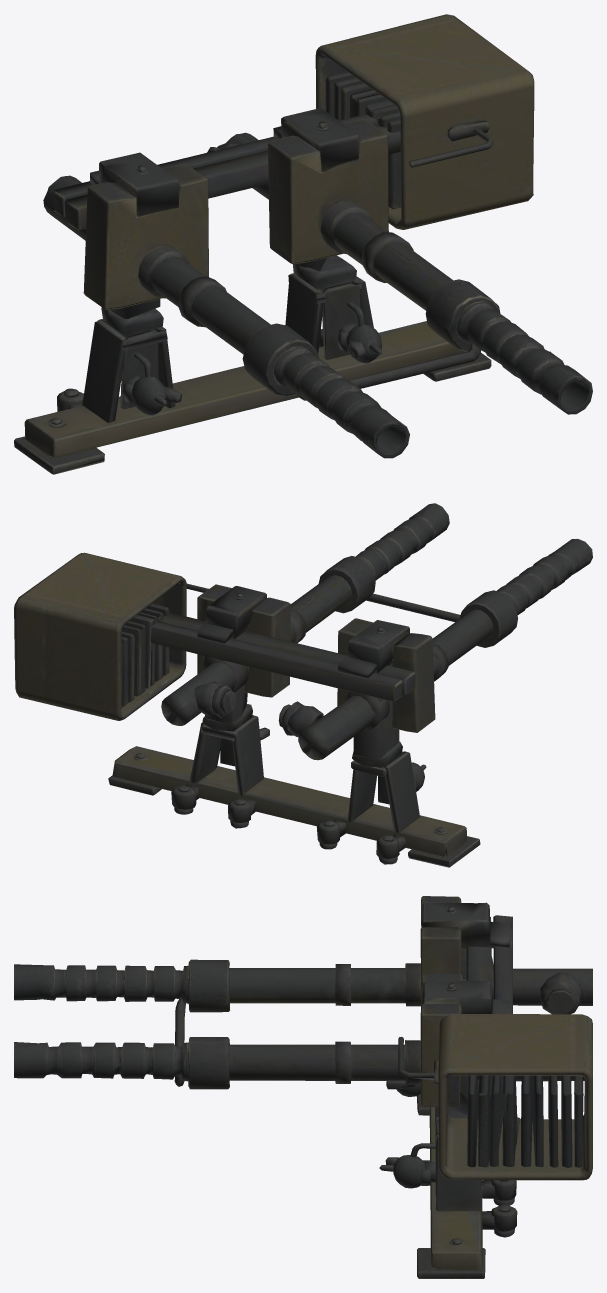
The picture shows the model from 3 angles, top to bottom: view 1: azimuth 30°, elevation 25°; view 2: azimuth 150°, elevation 25°; view 3: azimuth 270°, elevation 25°; orthographic projection. The views are drawn at different scales.
Bounding box in the file's own units: 0.8627 × 0.4494 × 1.
1 material, 1 textured.
